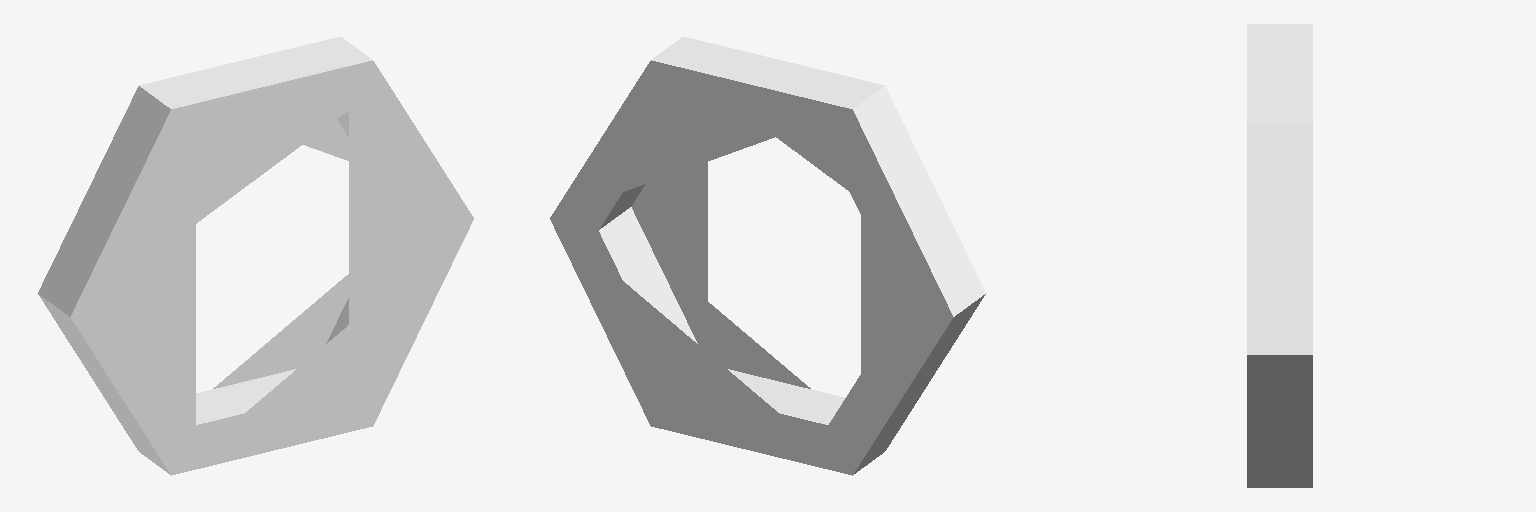
The picture shows the model from 3 angles: view 1: azimuth 30°, elevation 25°; view 2: azimuth 150°, elevation 25°; view 3: azimuth 270°, elevation 25°; orthographic projection.
Visible parts, largest first — view 1: Layer_Model_Front; view 2: Layer_Model_Front; view 3: Layer_Model_Front.
Boxes of the visible parts, box(x1,y1,x2,y2) form: Layer_Model_Front: box(38, 36, 473, 475); Layer_Model_Front: box(550, 36, 985, 475); Layer_Model_Front: box(1247, 24, 1312, 487).
Size of the model in its own units: 2.86 by 2.48 by 0.4.